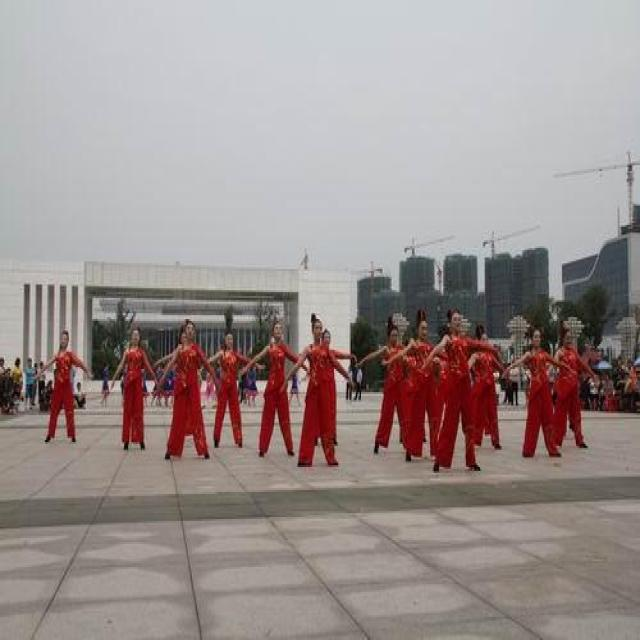non-fight: (293, 309, 355, 469), (370, 313, 431, 465), (160, 320, 216, 463), (41, 329, 90, 446), (114, 324, 157, 454)
